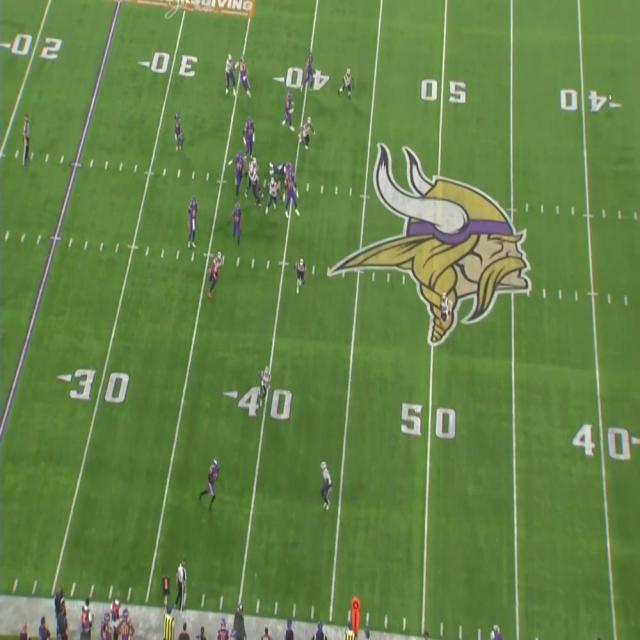db: (322, 459, 334, 509), (260, 366, 272, 406), (341, 68, 353, 98), (438, 292, 449, 324), (489, 623, 506, 638)
lb: (210, 256, 222, 296), (226, 53, 237, 95), (298, 255, 308, 289)
qb: (188, 195, 198, 247)
skill: (204, 457, 222, 507), (240, 62, 253, 98), (177, 109, 185, 149), (306, 51, 314, 88)
